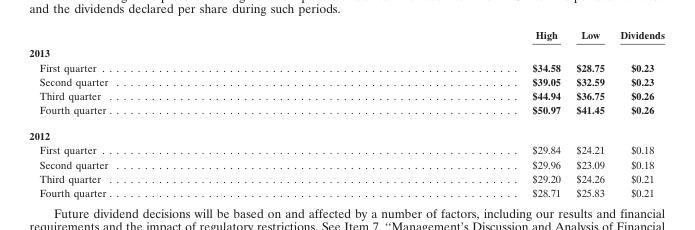table: (28, 28, 664, 198)
table column: (28, 28, 319, 198), (319, 28, 567, 198), (611, 28, 664, 198), (567, 28, 611, 198)
table column header: (28, 28, 664, 43)
table projected row header: (28, 122, 664, 142), (28, 43, 664, 59)
table row: (28, 102, 664, 122), (28, 122, 664, 142), (28, 43, 664, 59), (28, 28, 664, 43), (28, 59, 664, 74), (28, 170, 664, 185), (28, 74, 664, 88), (28, 88, 664, 102), (28, 142, 664, 156), (28, 156, 664, 170), (28, 185, 664, 198)
